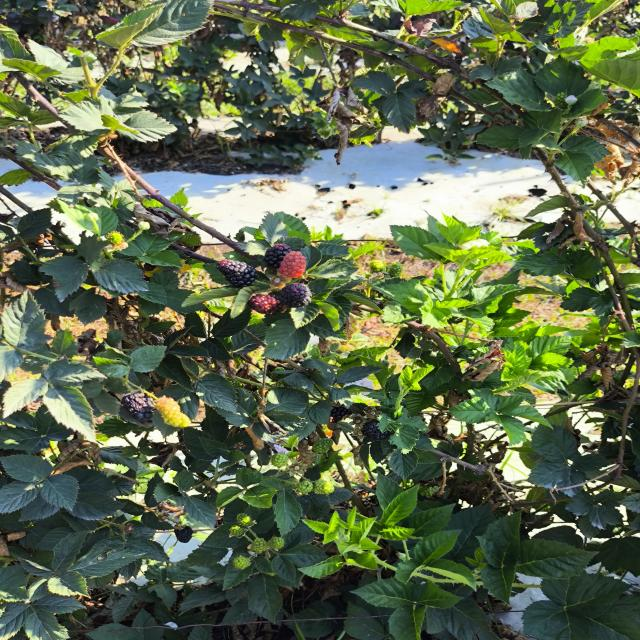maduro: (217, 259, 258, 288), (121, 392, 153, 422), (279, 283, 311, 307), (265, 243, 292, 270)
marron: (248, 295, 284, 314)
naranja: (278, 251, 306, 278)
verde: (155, 396, 190, 428), (312, 438, 333, 454), (313, 479, 334, 495), (248, 538, 268, 554), (232, 555, 251, 570), (387, 262, 403, 278), (270, 453, 288, 467), (297, 479, 313, 494), (236, 513, 252, 527), (269, 536, 285, 550), (229, 526, 244, 537)
